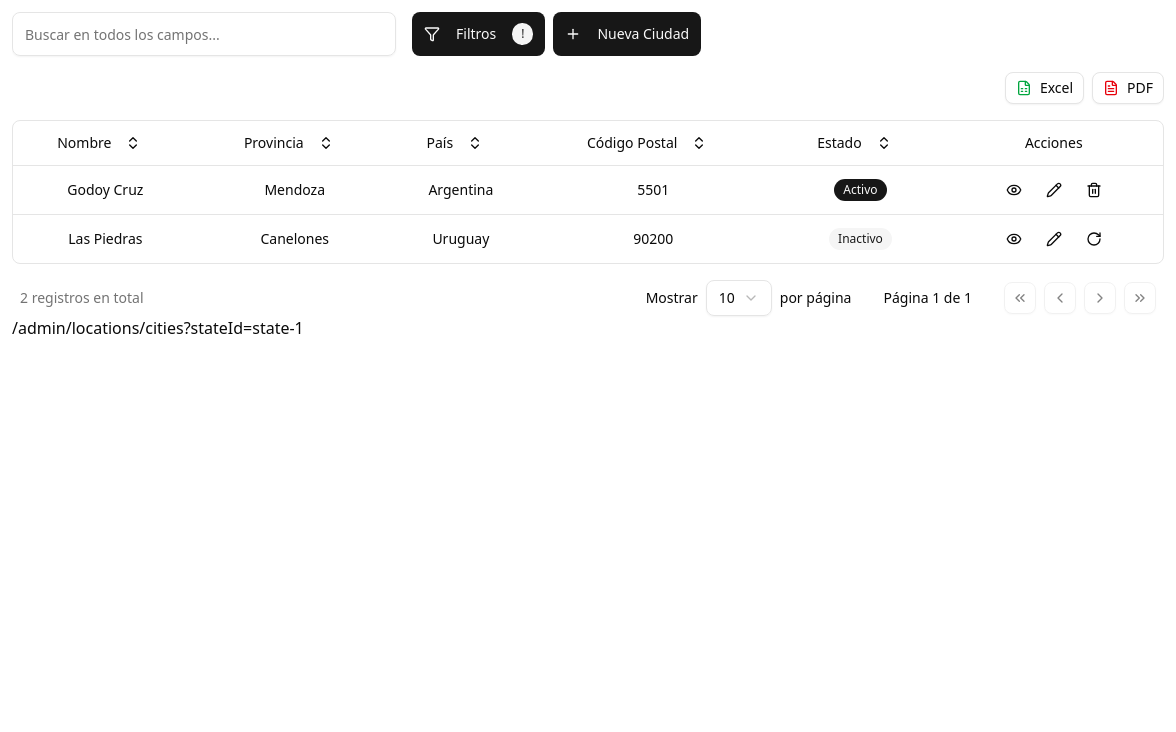
Test case: location table toolbars › preserves the city country/state cascade
Step 1. Click the button "Filtros !" → click(479, 34), box 412,12 -> 546,56
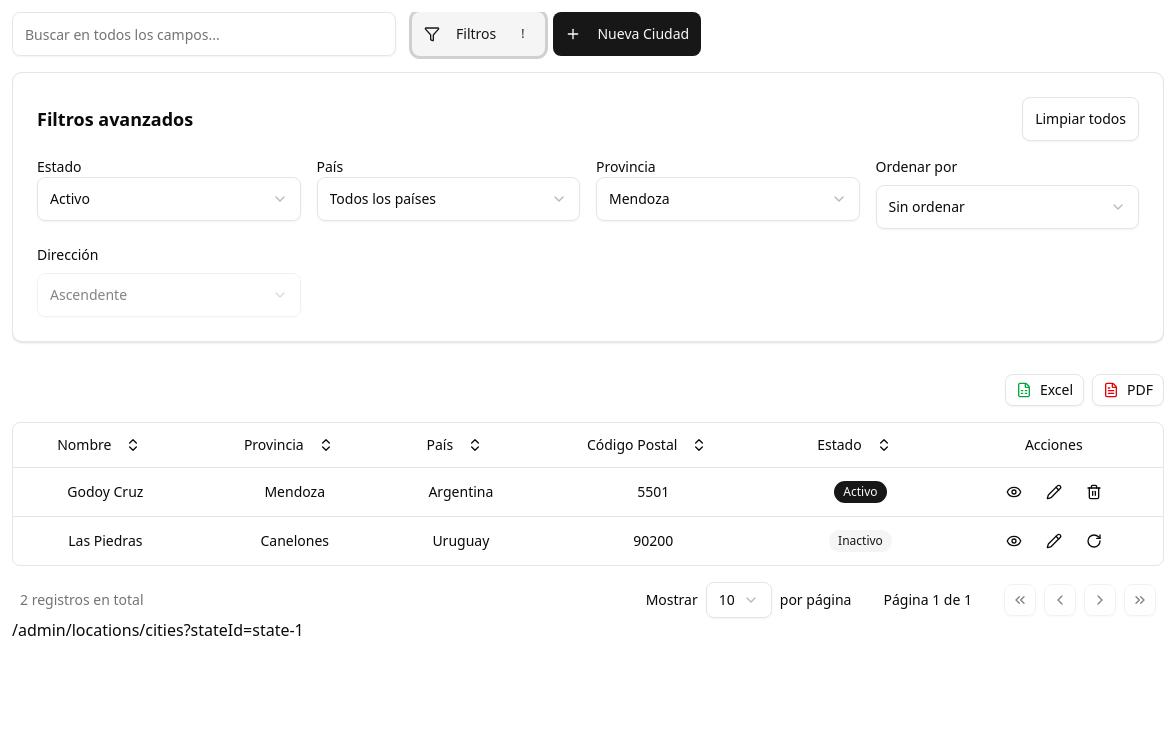
Step 2. Click the dropdown labelled "Todos los países" → click(383, 198), box 316,177 -> 580,221
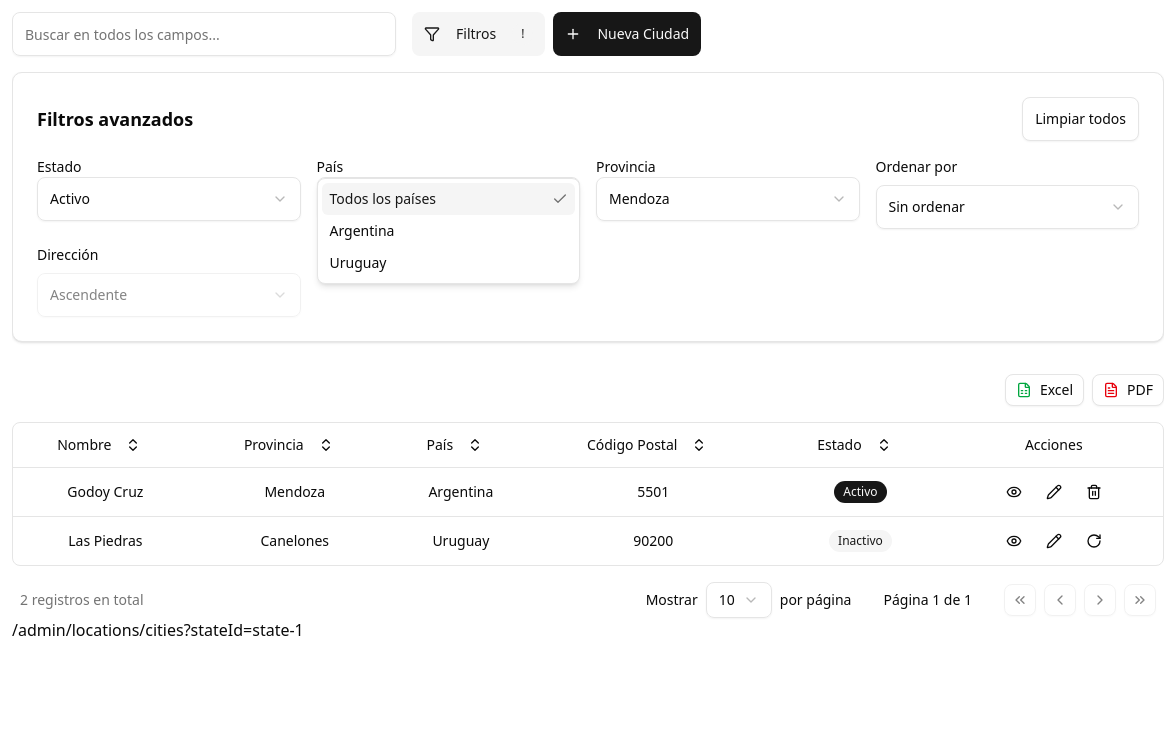
Step 3. Click the option "Argentina" → click(362, 230), box 330,221 -> 394,240
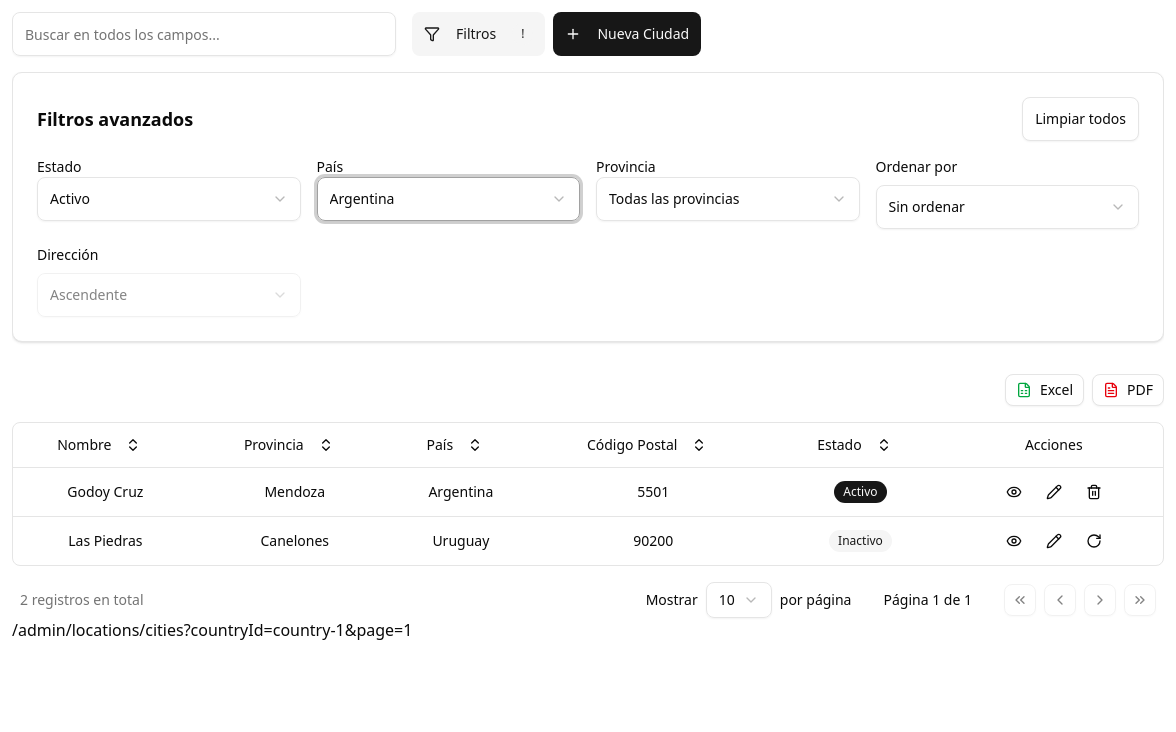
Result: the text with test id "location-search" shows "countryId=country-1" at 184,619 -> 412,641
Result: the text with test id "location-search" no longer shows "stateId=" at 12,619 -> 412,641
